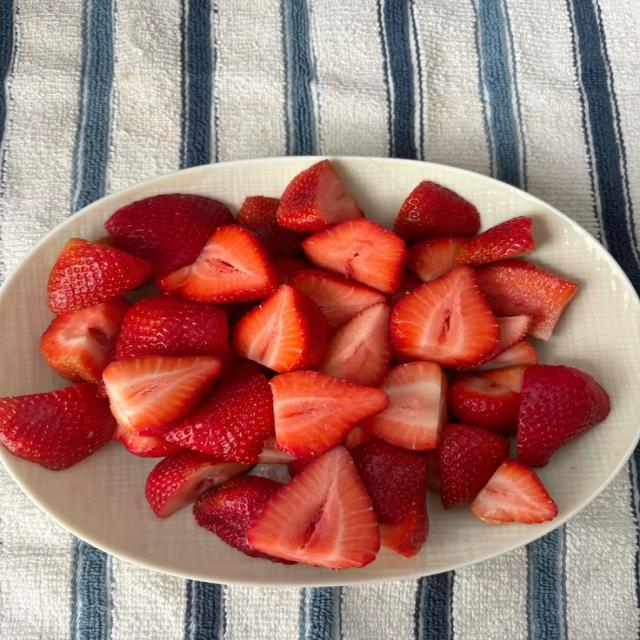strawberry sliced: (247, 446, 379, 568), (392, 267, 499, 367), (106, 194, 233, 275), (270, 371, 388, 457), (0, 383, 115, 470), (165, 372, 273, 463), (158, 225, 279, 303), (103, 355, 220, 435), (517, 365, 609, 466), (352, 443, 428, 557), (194, 476, 291, 564), (233, 285, 327, 372), (476, 260, 578, 339), (303, 219, 406, 294), (48, 239, 152, 313), (117, 295, 230, 363), (40, 297, 129, 382), (361, 362, 446, 450), (146, 451, 249, 518), (277, 160, 363, 232), (318, 303, 391, 386), (439, 425, 509, 508), (290, 269, 385, 330), (471, 460, 558, 523), (394, 181, 479, 242), (448, 374, 519, 434), (237, 196, 306, 256), (456, 216, 534, 266), (473, 316, 531, 368), (407, 238, 466, 281), (380, 509, 428, 557), (114, 425, 183, 457), (475, 338, 538, 371), (495, 316, 532, 355), (478, 366, 526, 393), (258, 434, 296, 464), (389, 271, 421, 306), (220, 301, 259, 328), (274, 257, 309, 283), (343, 427, 379, 450), (423, 450, 439, 493), (288, 458, 315, 477), (94, 235, 116, 246)
